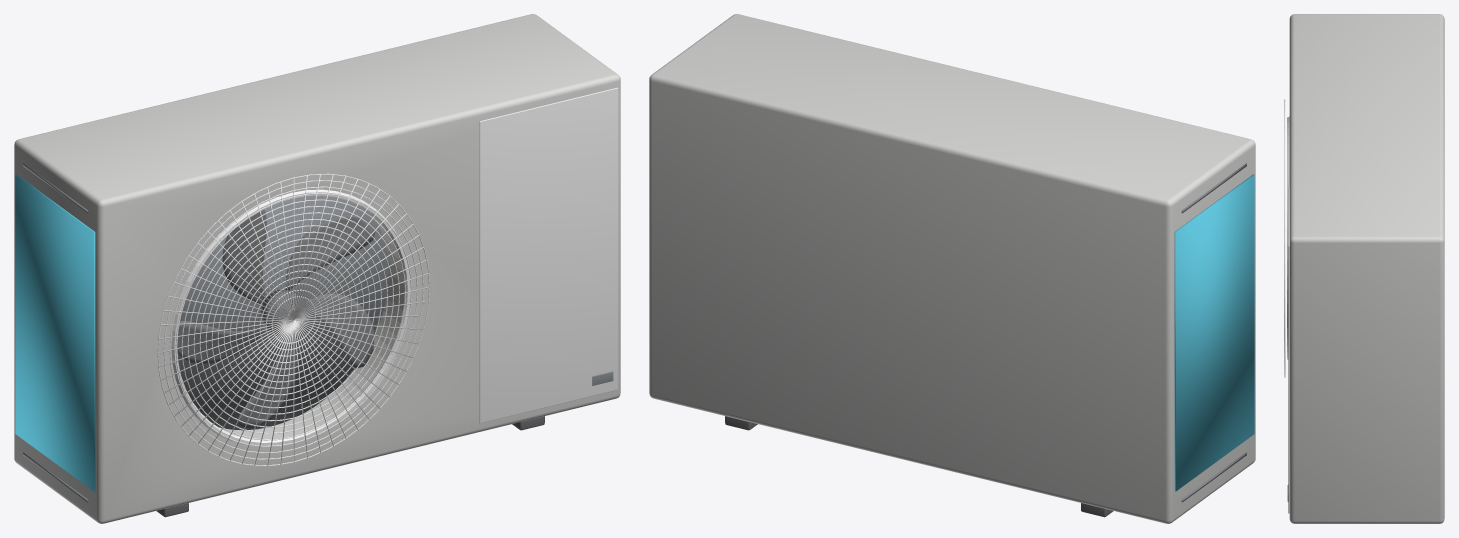
Rendered from heat-pump-daikin-altherma-3m-1250.glb.
The picture shows the model from 3 angles, left to right: view 1: azimuth 30°, elevation 25°; view 2: azimuth 150°, elevation 25°; view 3: azimuth 270°, elevation 25°; orthographic projection. The views are drawn at different scales.
Visible parts, largest first — view 1: Cubo.038, Cubo.040, Toroide.149, Cubo.039, Cubo.041, FanBlades_0.007; view 2: Cubo.038, Cubo.039; view 3: Cubo.038, Toroide.149, Cubo.040.
Part boxes in pixels (x1,y1,x2,y2): Cubo.038: [14, 14, 620, 523]; Cubo.040: [479, 87, 618, 423]; Toroide.149: [157, 173, 429, 466]; Cubo.039: [15, 174, 95, 491]; Cubo.041: [23, 163, 613, 502]; FanBlades_0.007: [177, 209, 375, 428]; Cubo.038: [649, 14, 1255, 523]; Cubo.039: [1174, 174, 1254, 491]; Cubo.038: [1289, 14, 1444, 523]; Toroide.149: [1284, 99, 1289, 377]; Cubo.040: [1288, 186, 1289, 513].
Size of the model in its own units: 1.25 by 0.77 by 0.3743.
